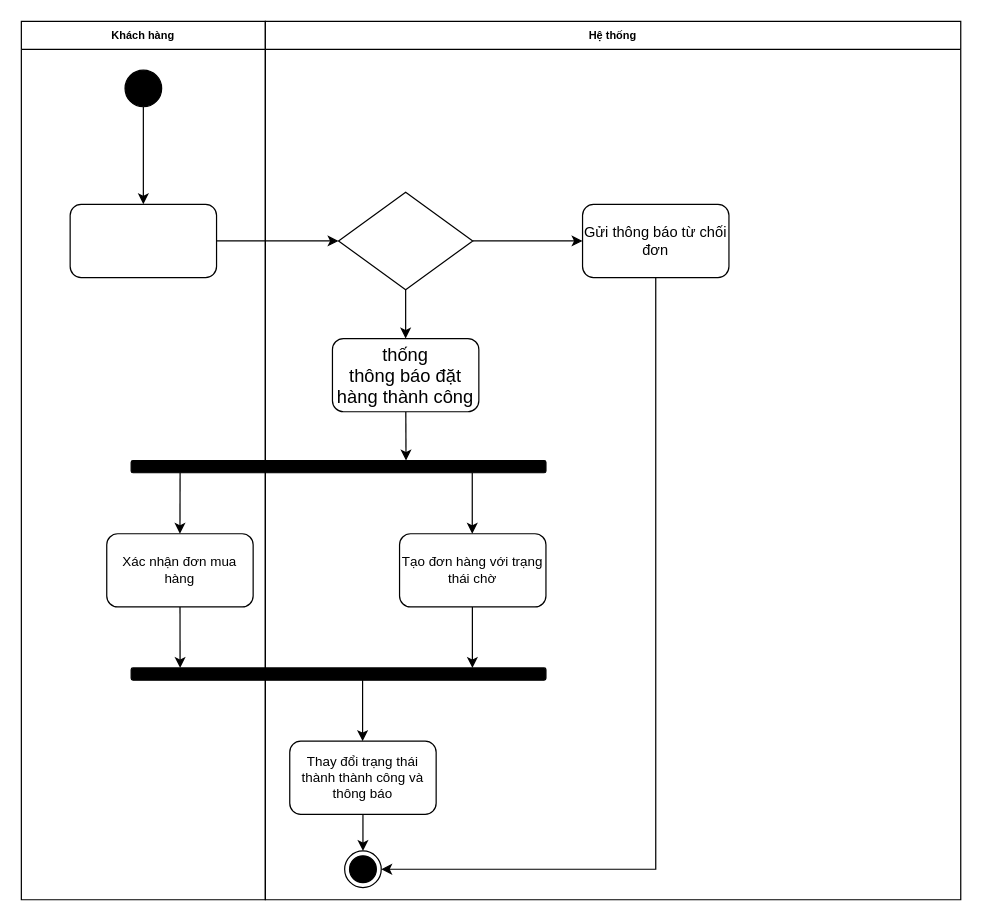
This 982x921 diagram has some shape labels left out. The centre of each missing label's shape, as x and y in pixels:
"Chọn hàng muốn đặt và số lượng" belongs at point 143,240.
"Số lượng đủ hay không" belongs at point 405,240.
